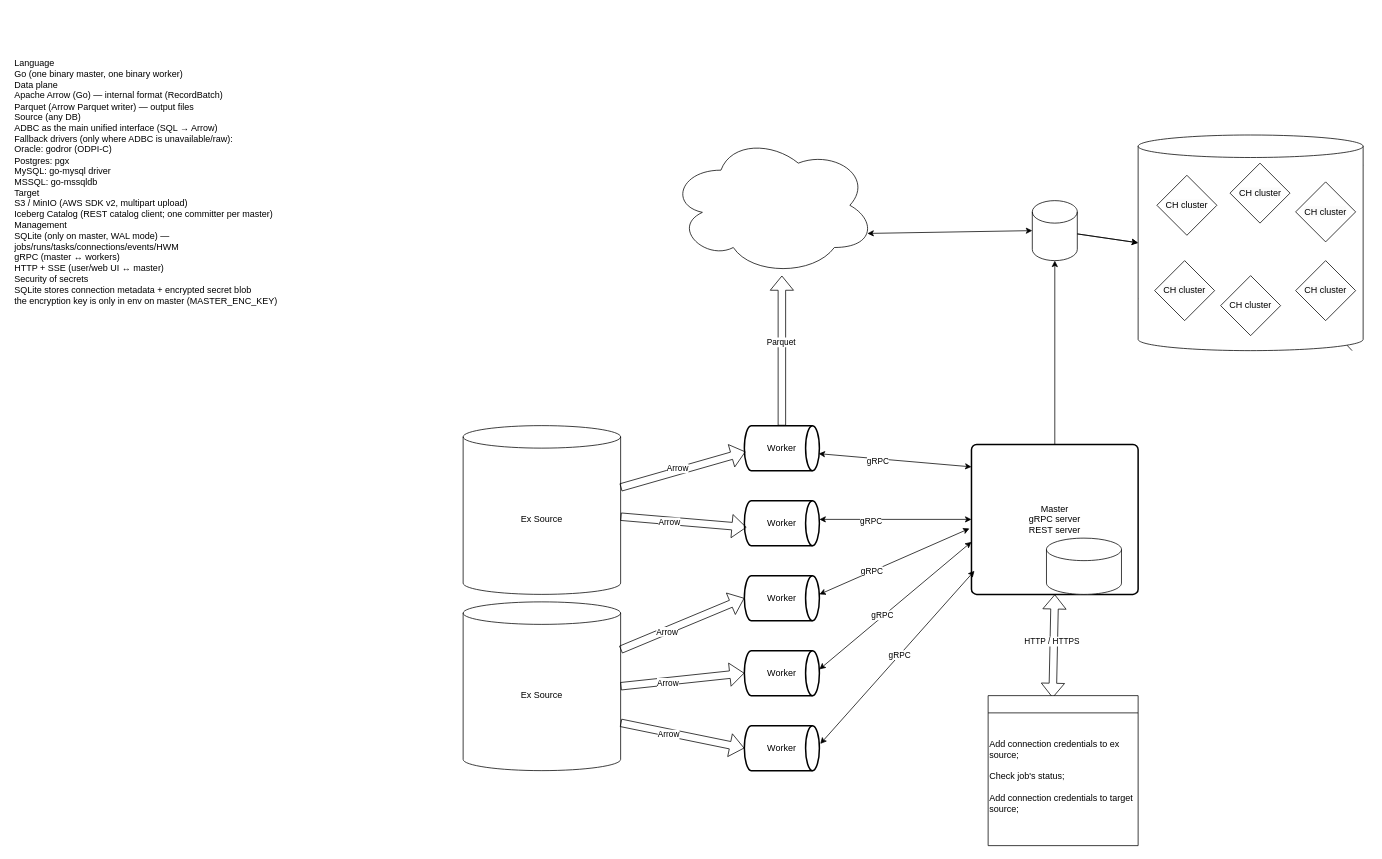
Image size: 1382x859. Some labels were removed from this diagram. Each missing label, with the box of its shape:
CH swarm: (1137, 134, 1363, 351)
Iceberg Catalog: (1032, 200, 1077, 261)
S3: (669, 134, 876, 276)
SQLite: (1046, 537, 1121, 594)
WEB UI: (987, 695, 1138, 846)
